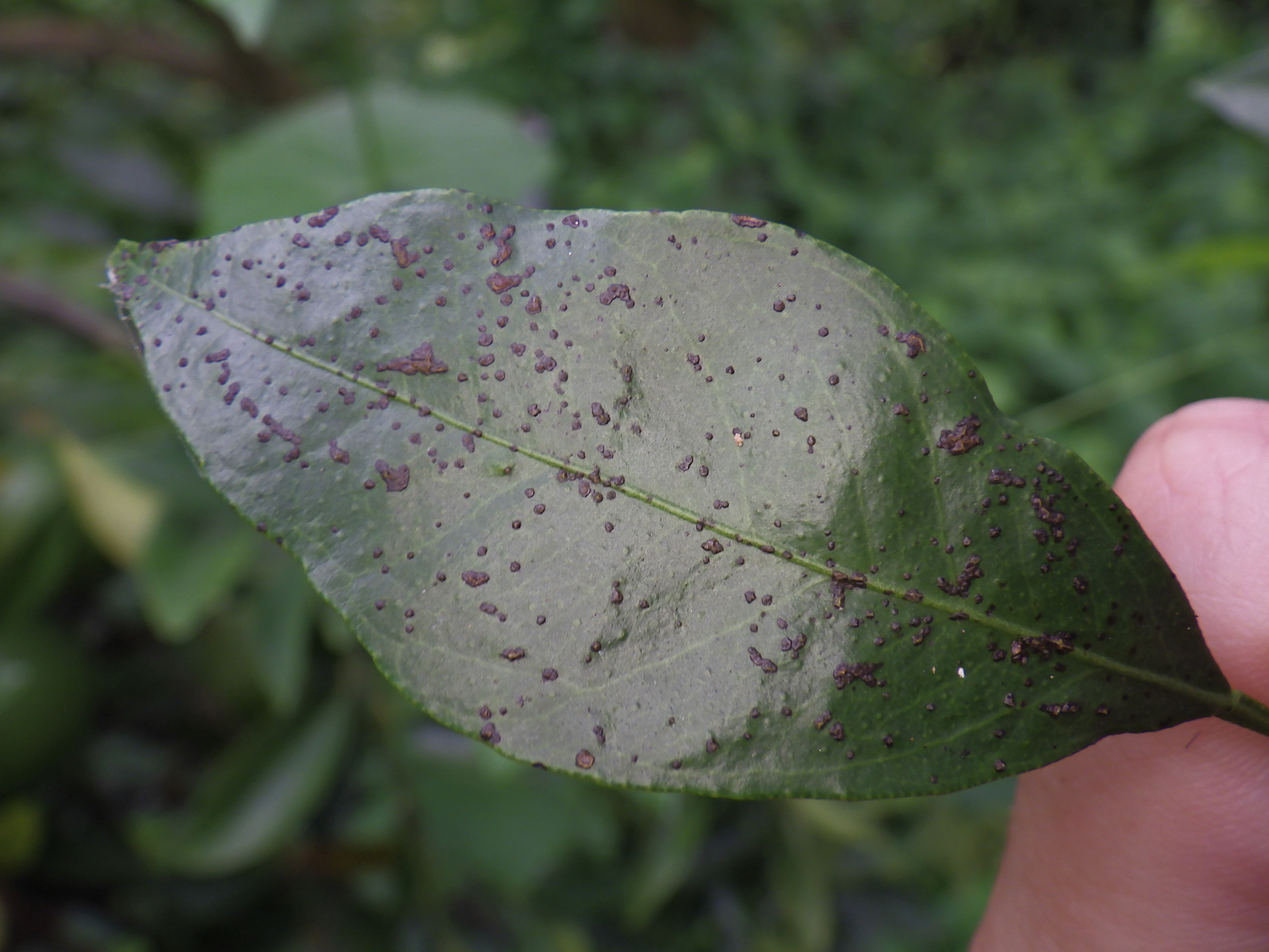Black_Spot: (108, 190, 1268, 798)
